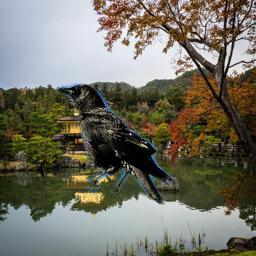Crow: (51, 82, 174, 206)
